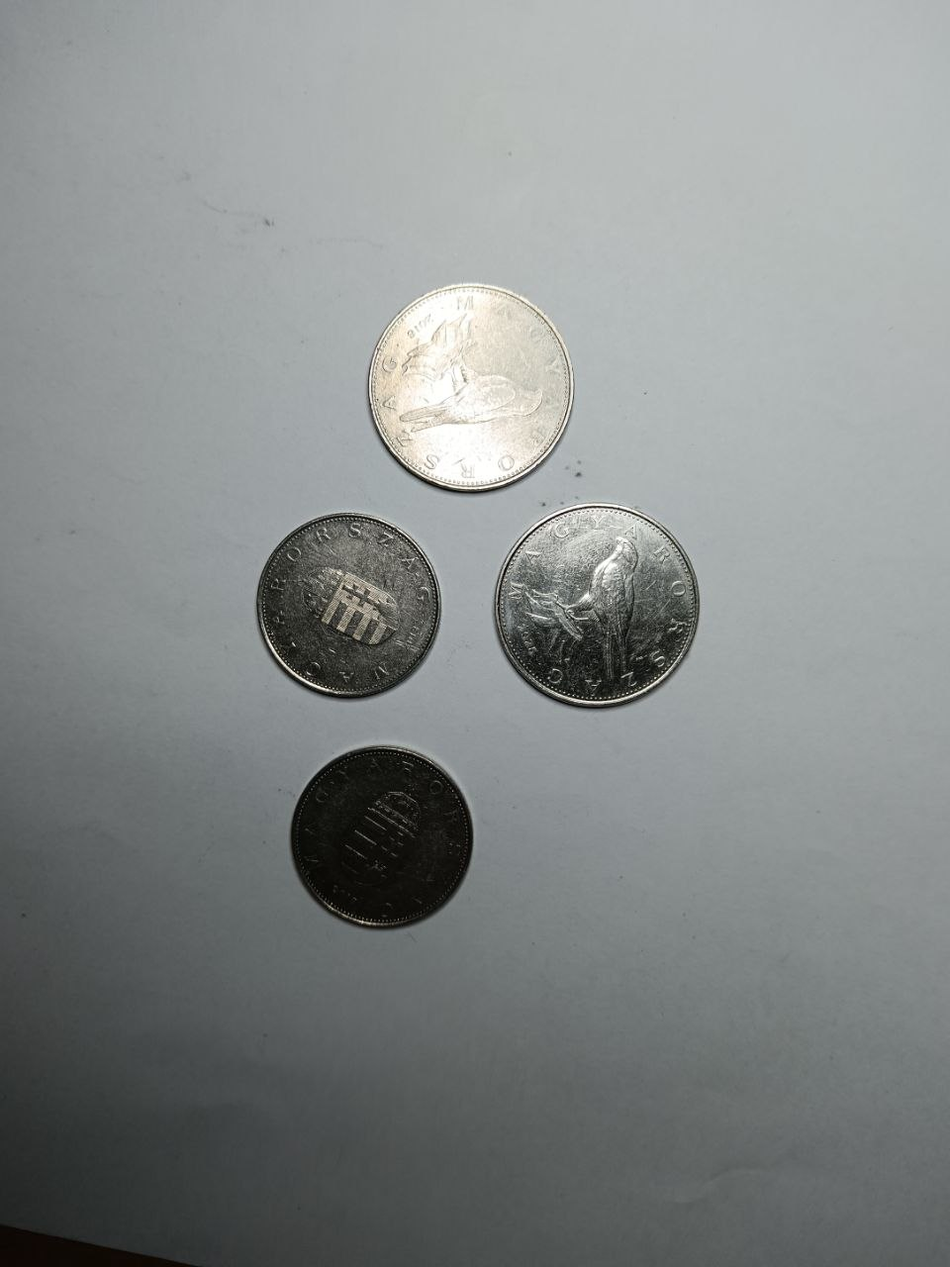10ft: (258, 515, 439, 693), (302, 750, 470, 926)
50ft: (375, 284, 573, 493), (498, 510, 698, 704)
